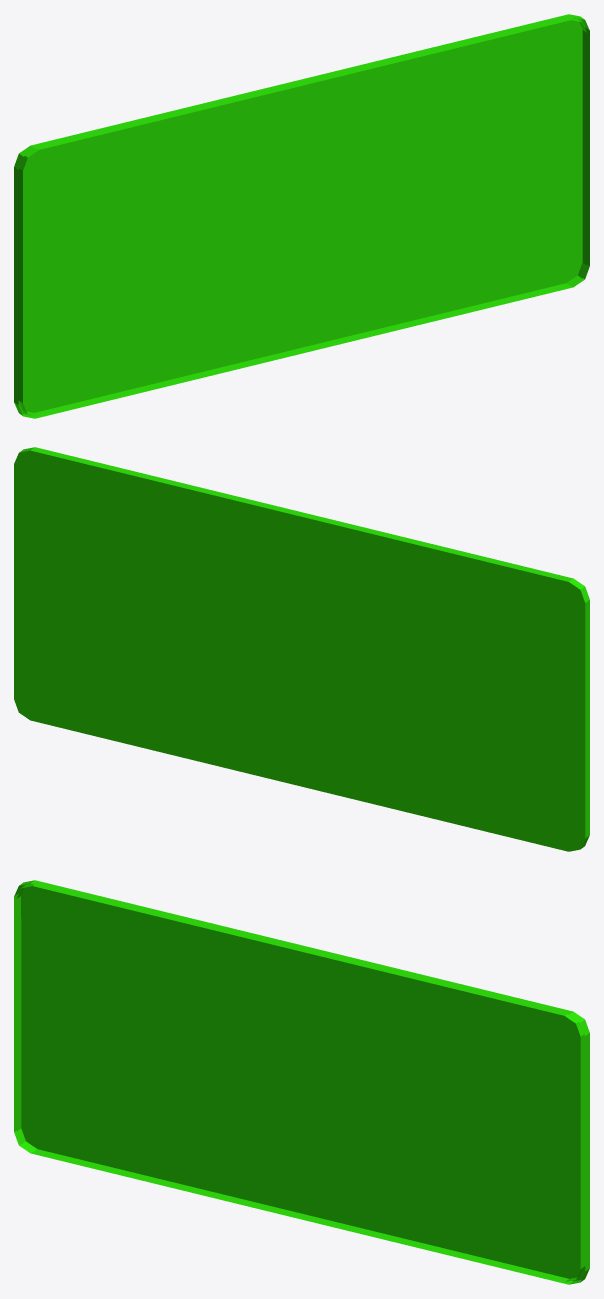
File: Road_Sign_Base_11_Lod0.fbx
The picture shows the model from 3 angles, top to bottom: view 1: azimuth 30°, elevation 25°; view 2: azimuth 150°, elevation 25°; view 3: azimuth 330°, elevation 25°; orthographic projection.
Visible parts, largest first — view 1: Road_Sign_Base_11_Lod0; view 2: Road_Sign_Base_11_Lod0; view 3: Road_Sign_Base_11_Lod0.
Boxes of the visible parts, bbox=[...] form: Road_Sign_Base_11_Lod0: bbox=[14, 14, 589, 418]; Road_Sign_Base_11_Lod0: bbox=[14, 447, 589, 851]; Road_Sign_Base_11_Lod0: bbox=[14, 880, 589, 1284].
Bounding box in the file's own units: 97.81 × 44.15 × 1.7.
